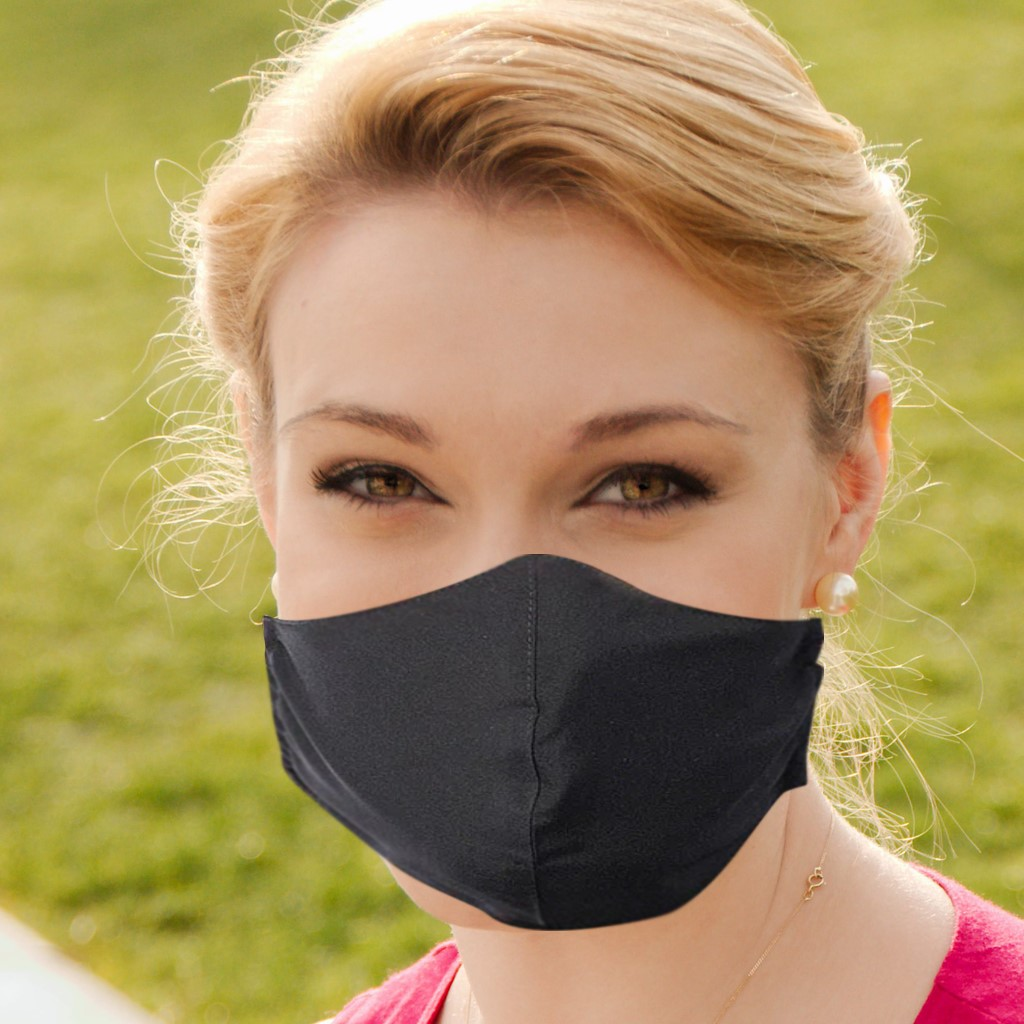con_mascara: (231, 96, 852, 929)
